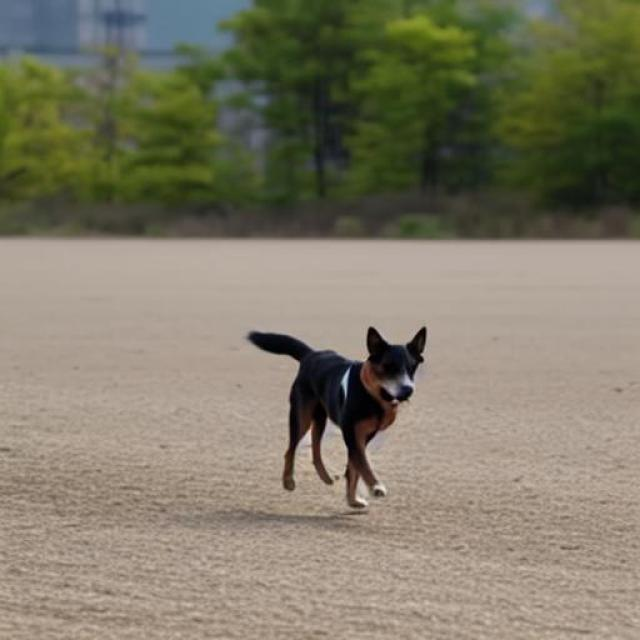Dog: (247, 325, 427, 509)
